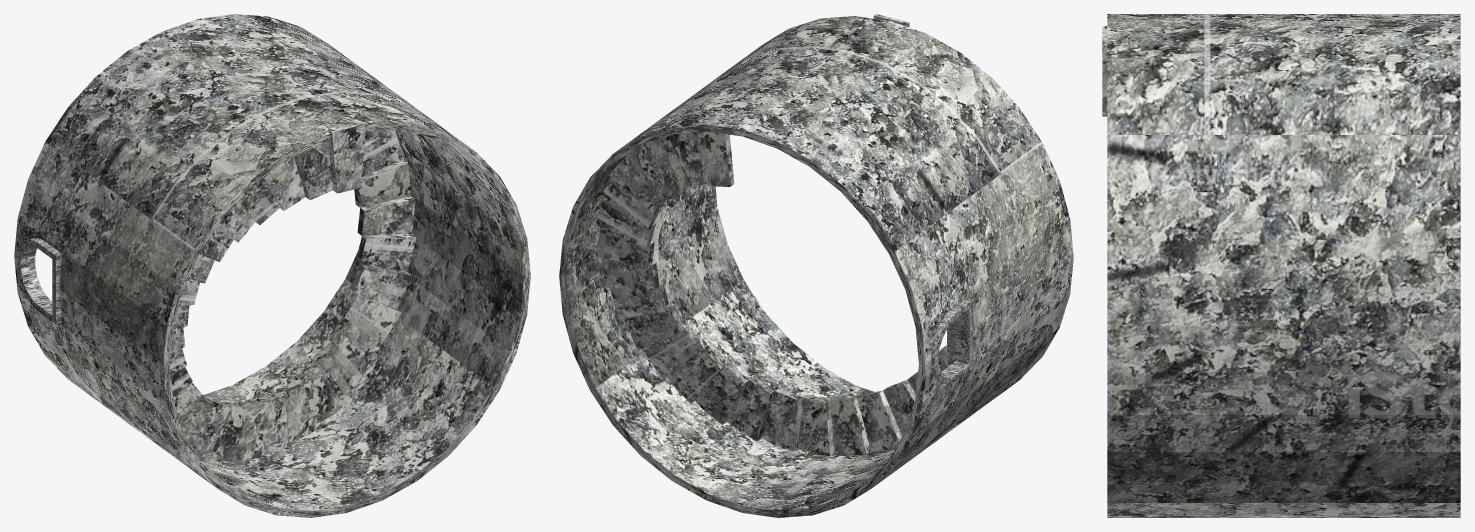
File: WindowFlame_04.fbx
The picture shows the model from 3 angles, left to right: view 1: azimuth 30°, elevation 25°; view 2: azimuth 150°, elevation 25°; view 3: azimuth 270°, elevation 25°; orthographic projection. The views are drawn at different scales.
Visible parts, largest first — view 1: Cylinder.001; view 2: Cylinder.001; view 3: Cylinder.001.
Boxes of the visible parts, <box> form: Cylinder.001: <box>14,14,530,517</box>; Cylinder.001: <box>559,14,1073,517</box>; Cylinder.001: <box>1102,14,1460,517</box>.
Bounding box in the file's own units: 938 × 932 × 660.
Materials: 1 (1 with a texture image).
